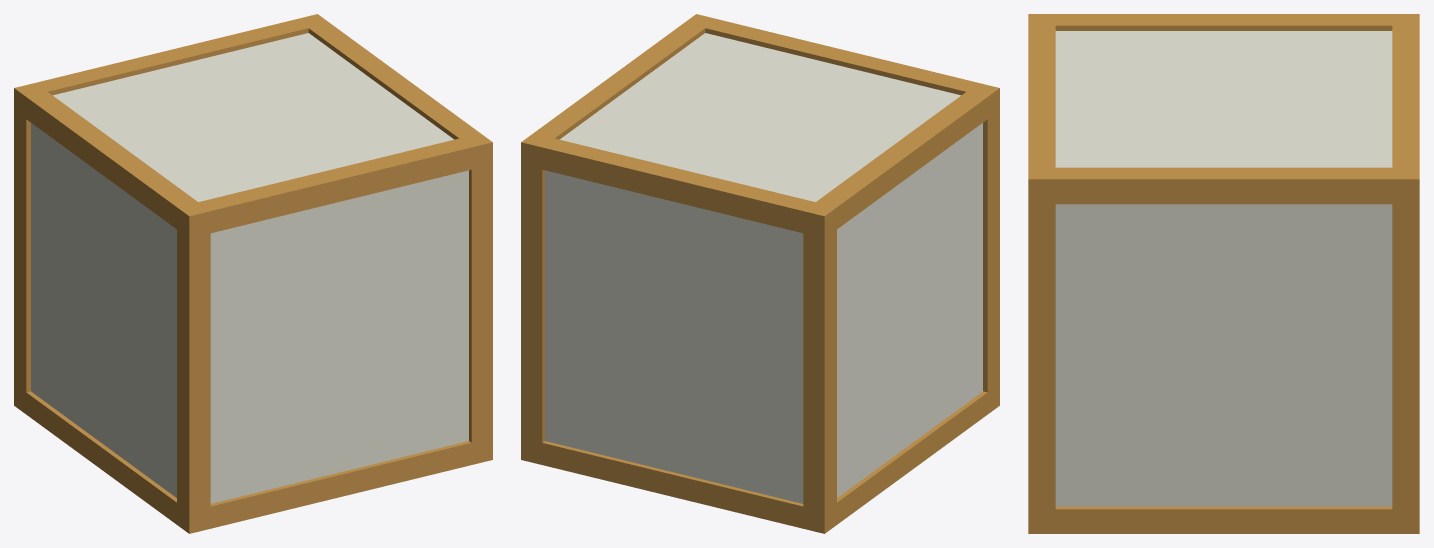
Rendered from iron.obj.
The picture shows the model from 3 angles, left to right: view 1: azimuth 30°, elevation 25°; view 2: azimuth 150°, elevation 25°; view 3: azimuth 270°, elevation 25°; orthographic projection. The views are drawn at different scales.
Size of the model in its own units: 1 by 1 by 1.
